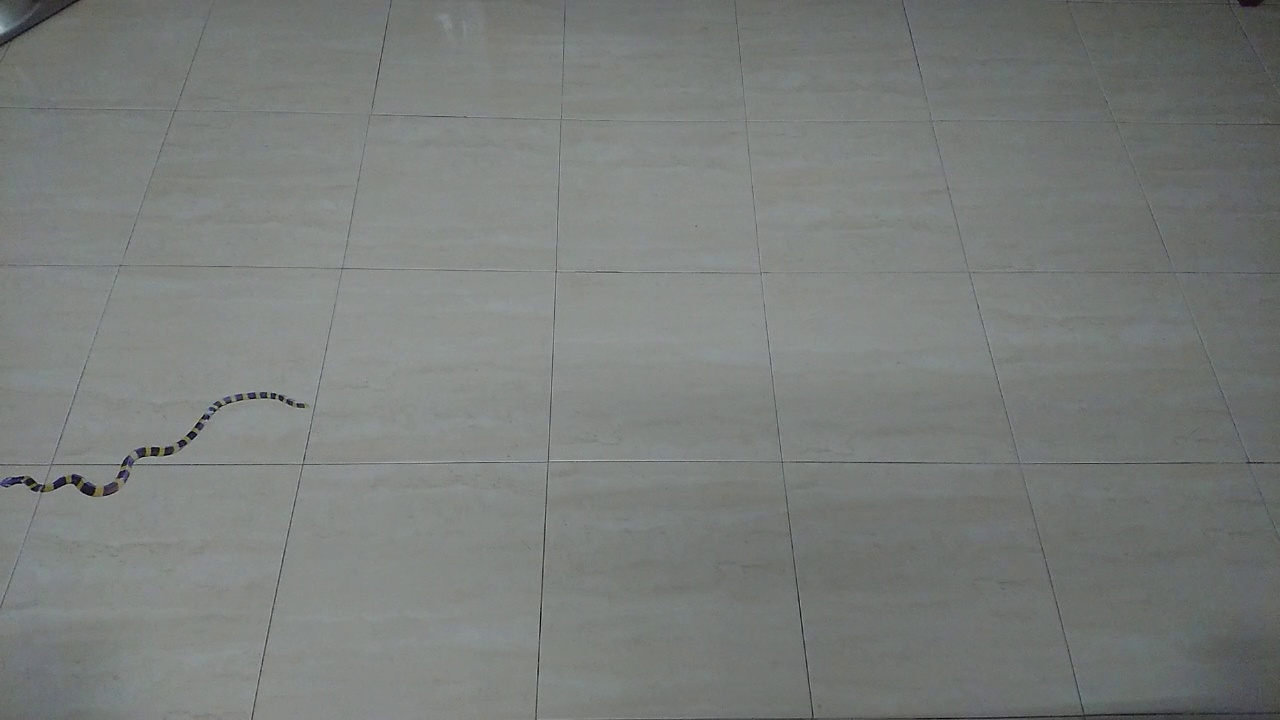snake: (1, 372, 325, 515)
